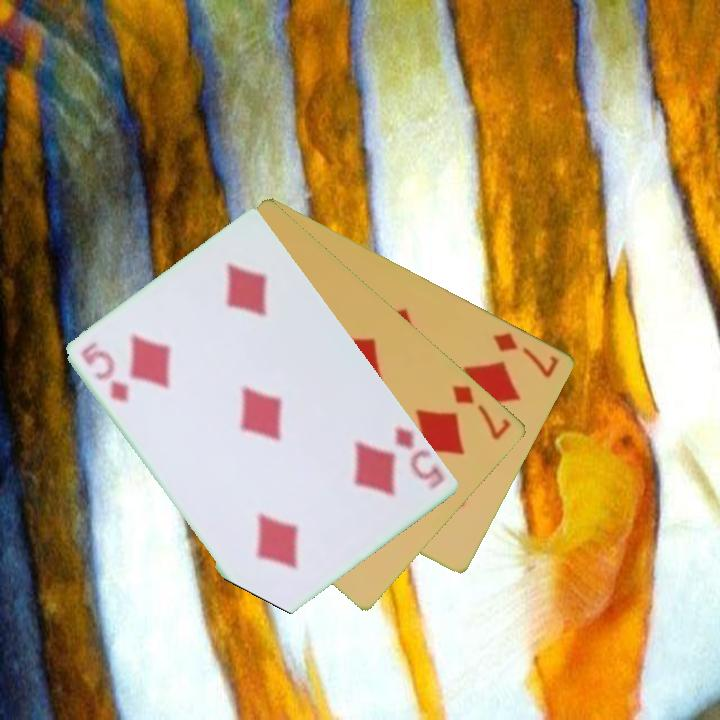5d: (391, 423, 448, 488), (77, 340, 133, 405)
7d: (449, 381, 514, 443), (490, 328, 562, 380)
